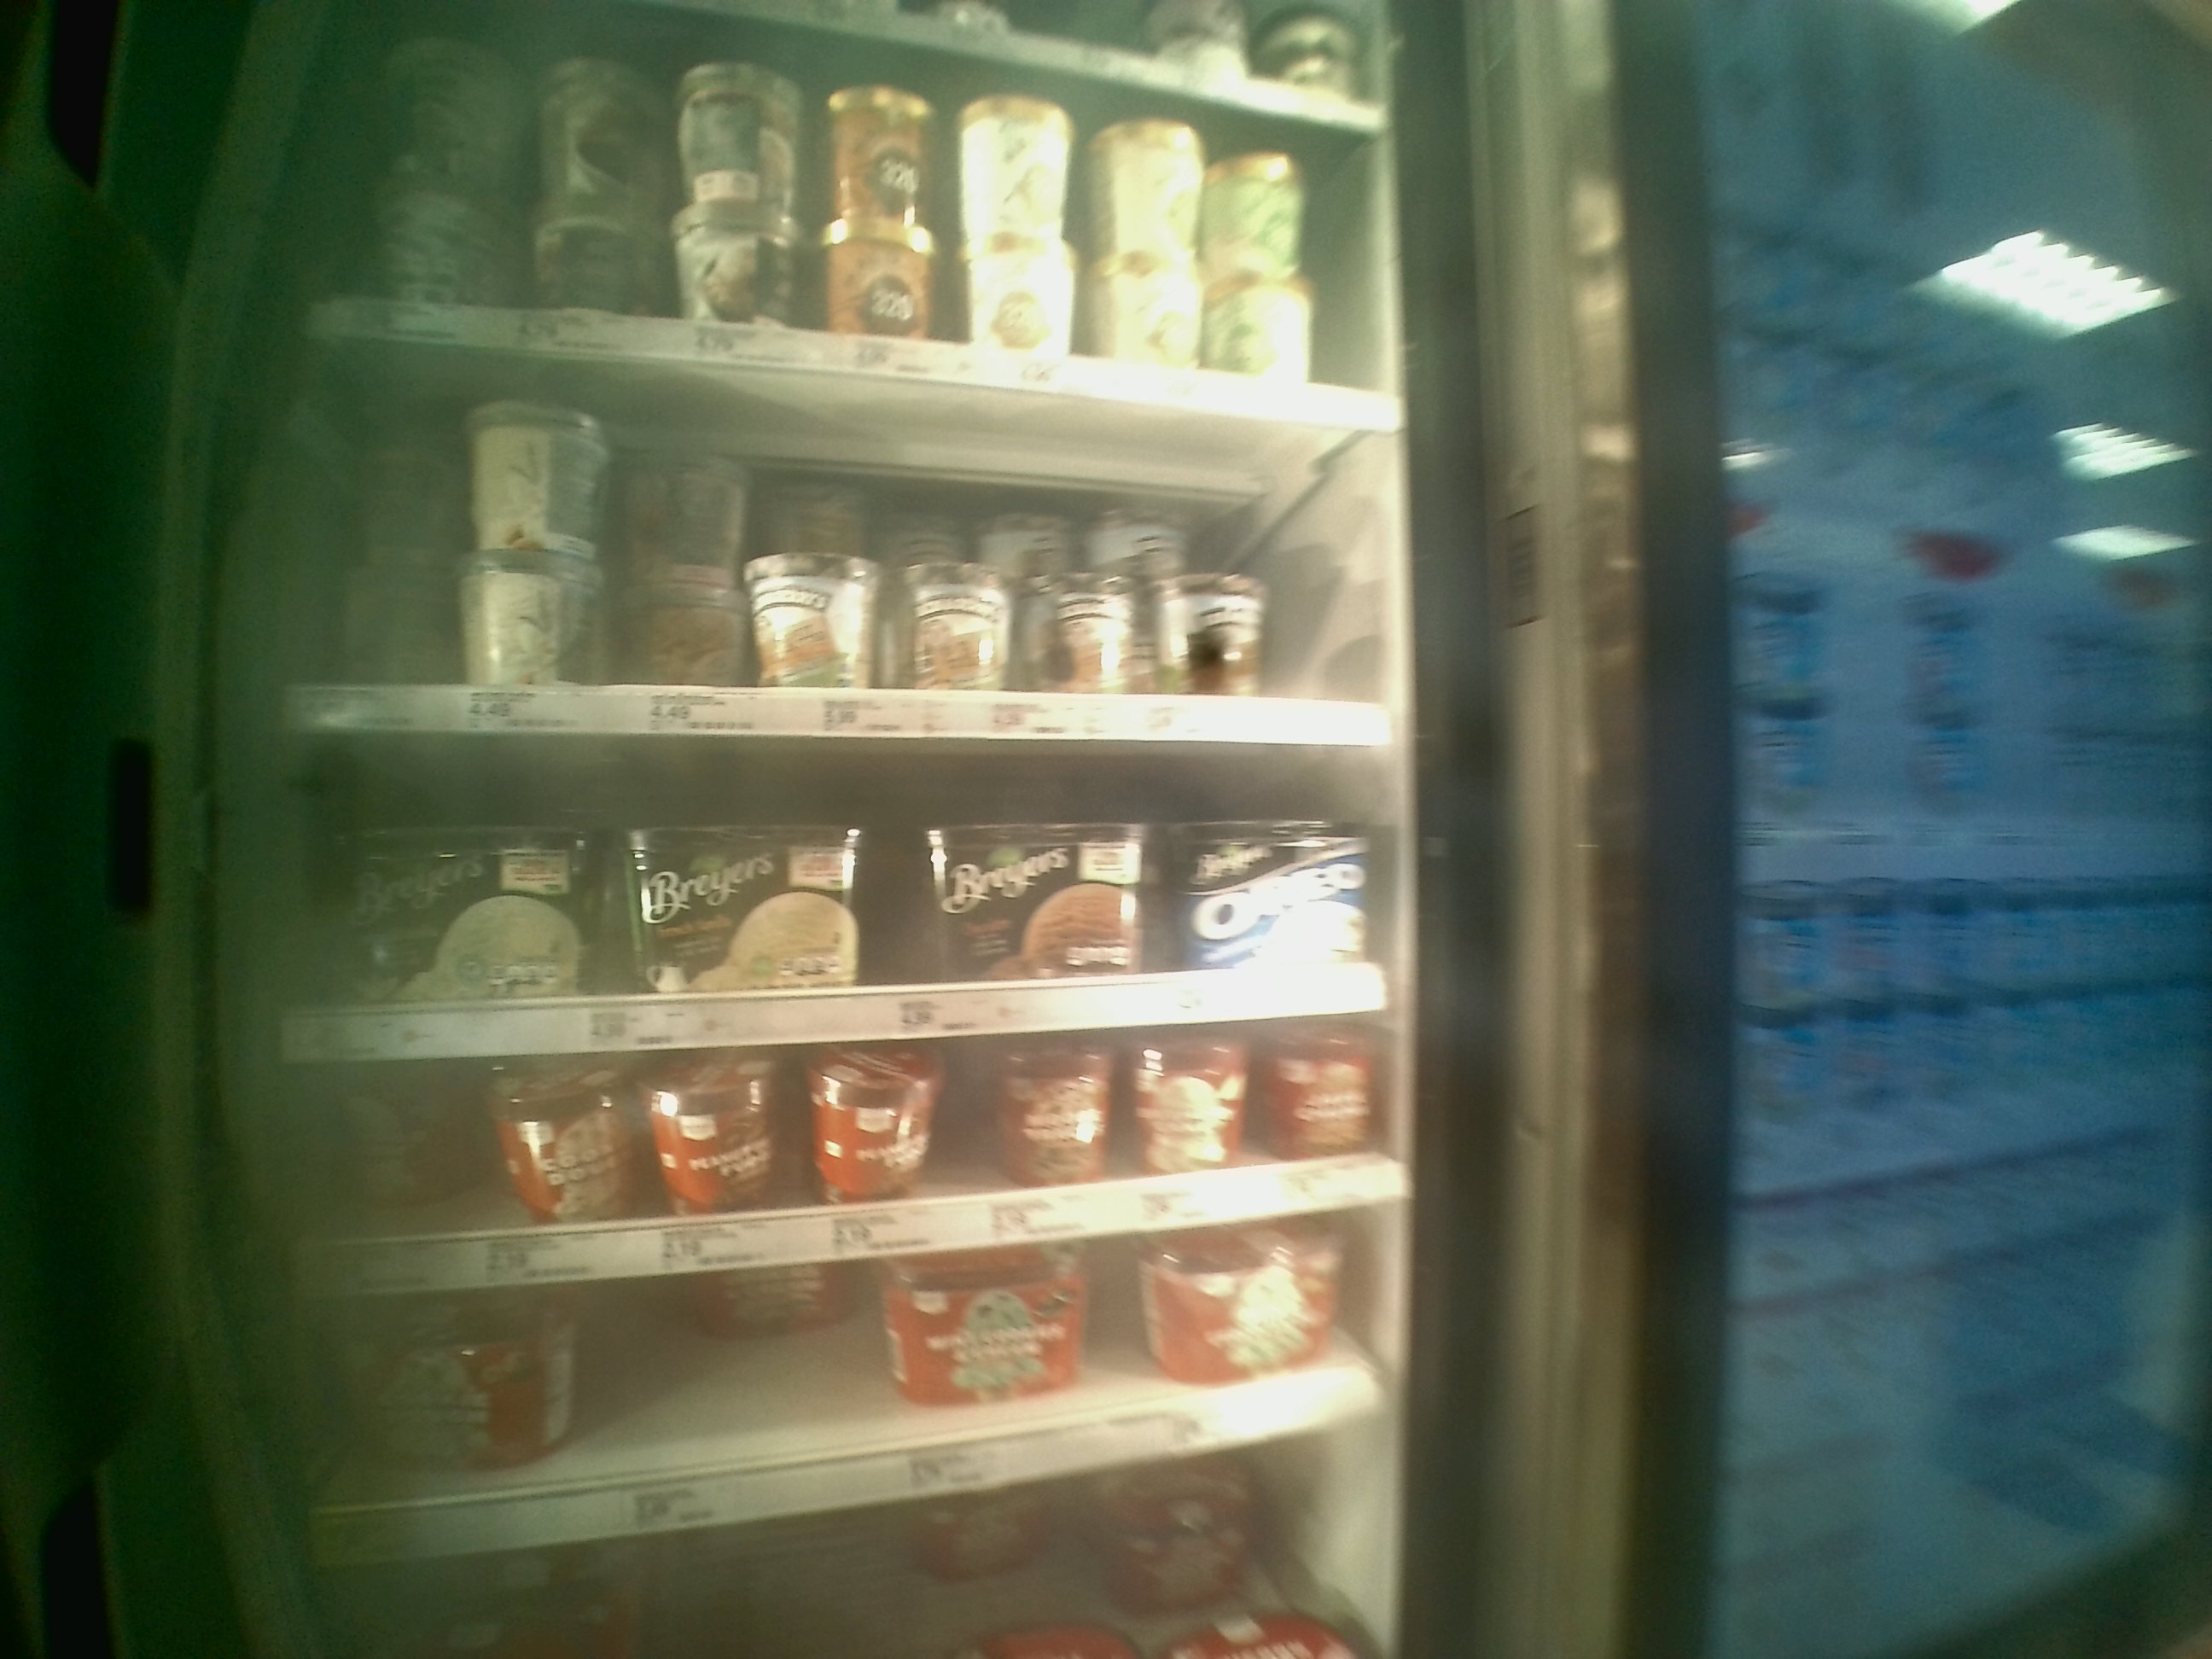shelf: (272, 336, 1411, 760), (258, 753, 1399, 1047), (263, 1016, 1409, 1283)
